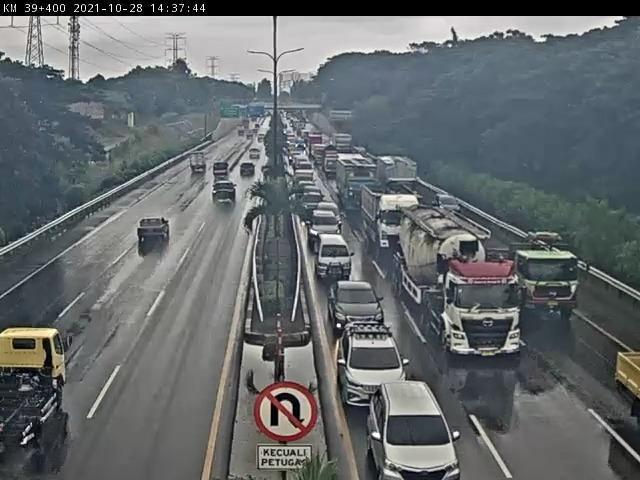car: (369, 382, 462, 480), (335, 322, 420, 400), (320, 277, 390, 334), (315, 235, 368, 283), (137, 216, 177, 255), (306, 210, 341, 244), (236, 153, 267, 186), (210, 179, 240, 204), (317, 202, 343, 224), (300, 190, 326, 205), (214, 162, 233, 181), (293, 160, 314, 176), (295, 175, 320, 188)
truck: (402, 213, 529, 362), (1, 325, 69, 459), (493, 235, 593, 315), (381, 157, 426, 197), (337, 159, 377, 200), (434, 193, 474, 218), (325, 148, 346, 183), (186, 148, 213, 174), (339, 195, 432, 196)
